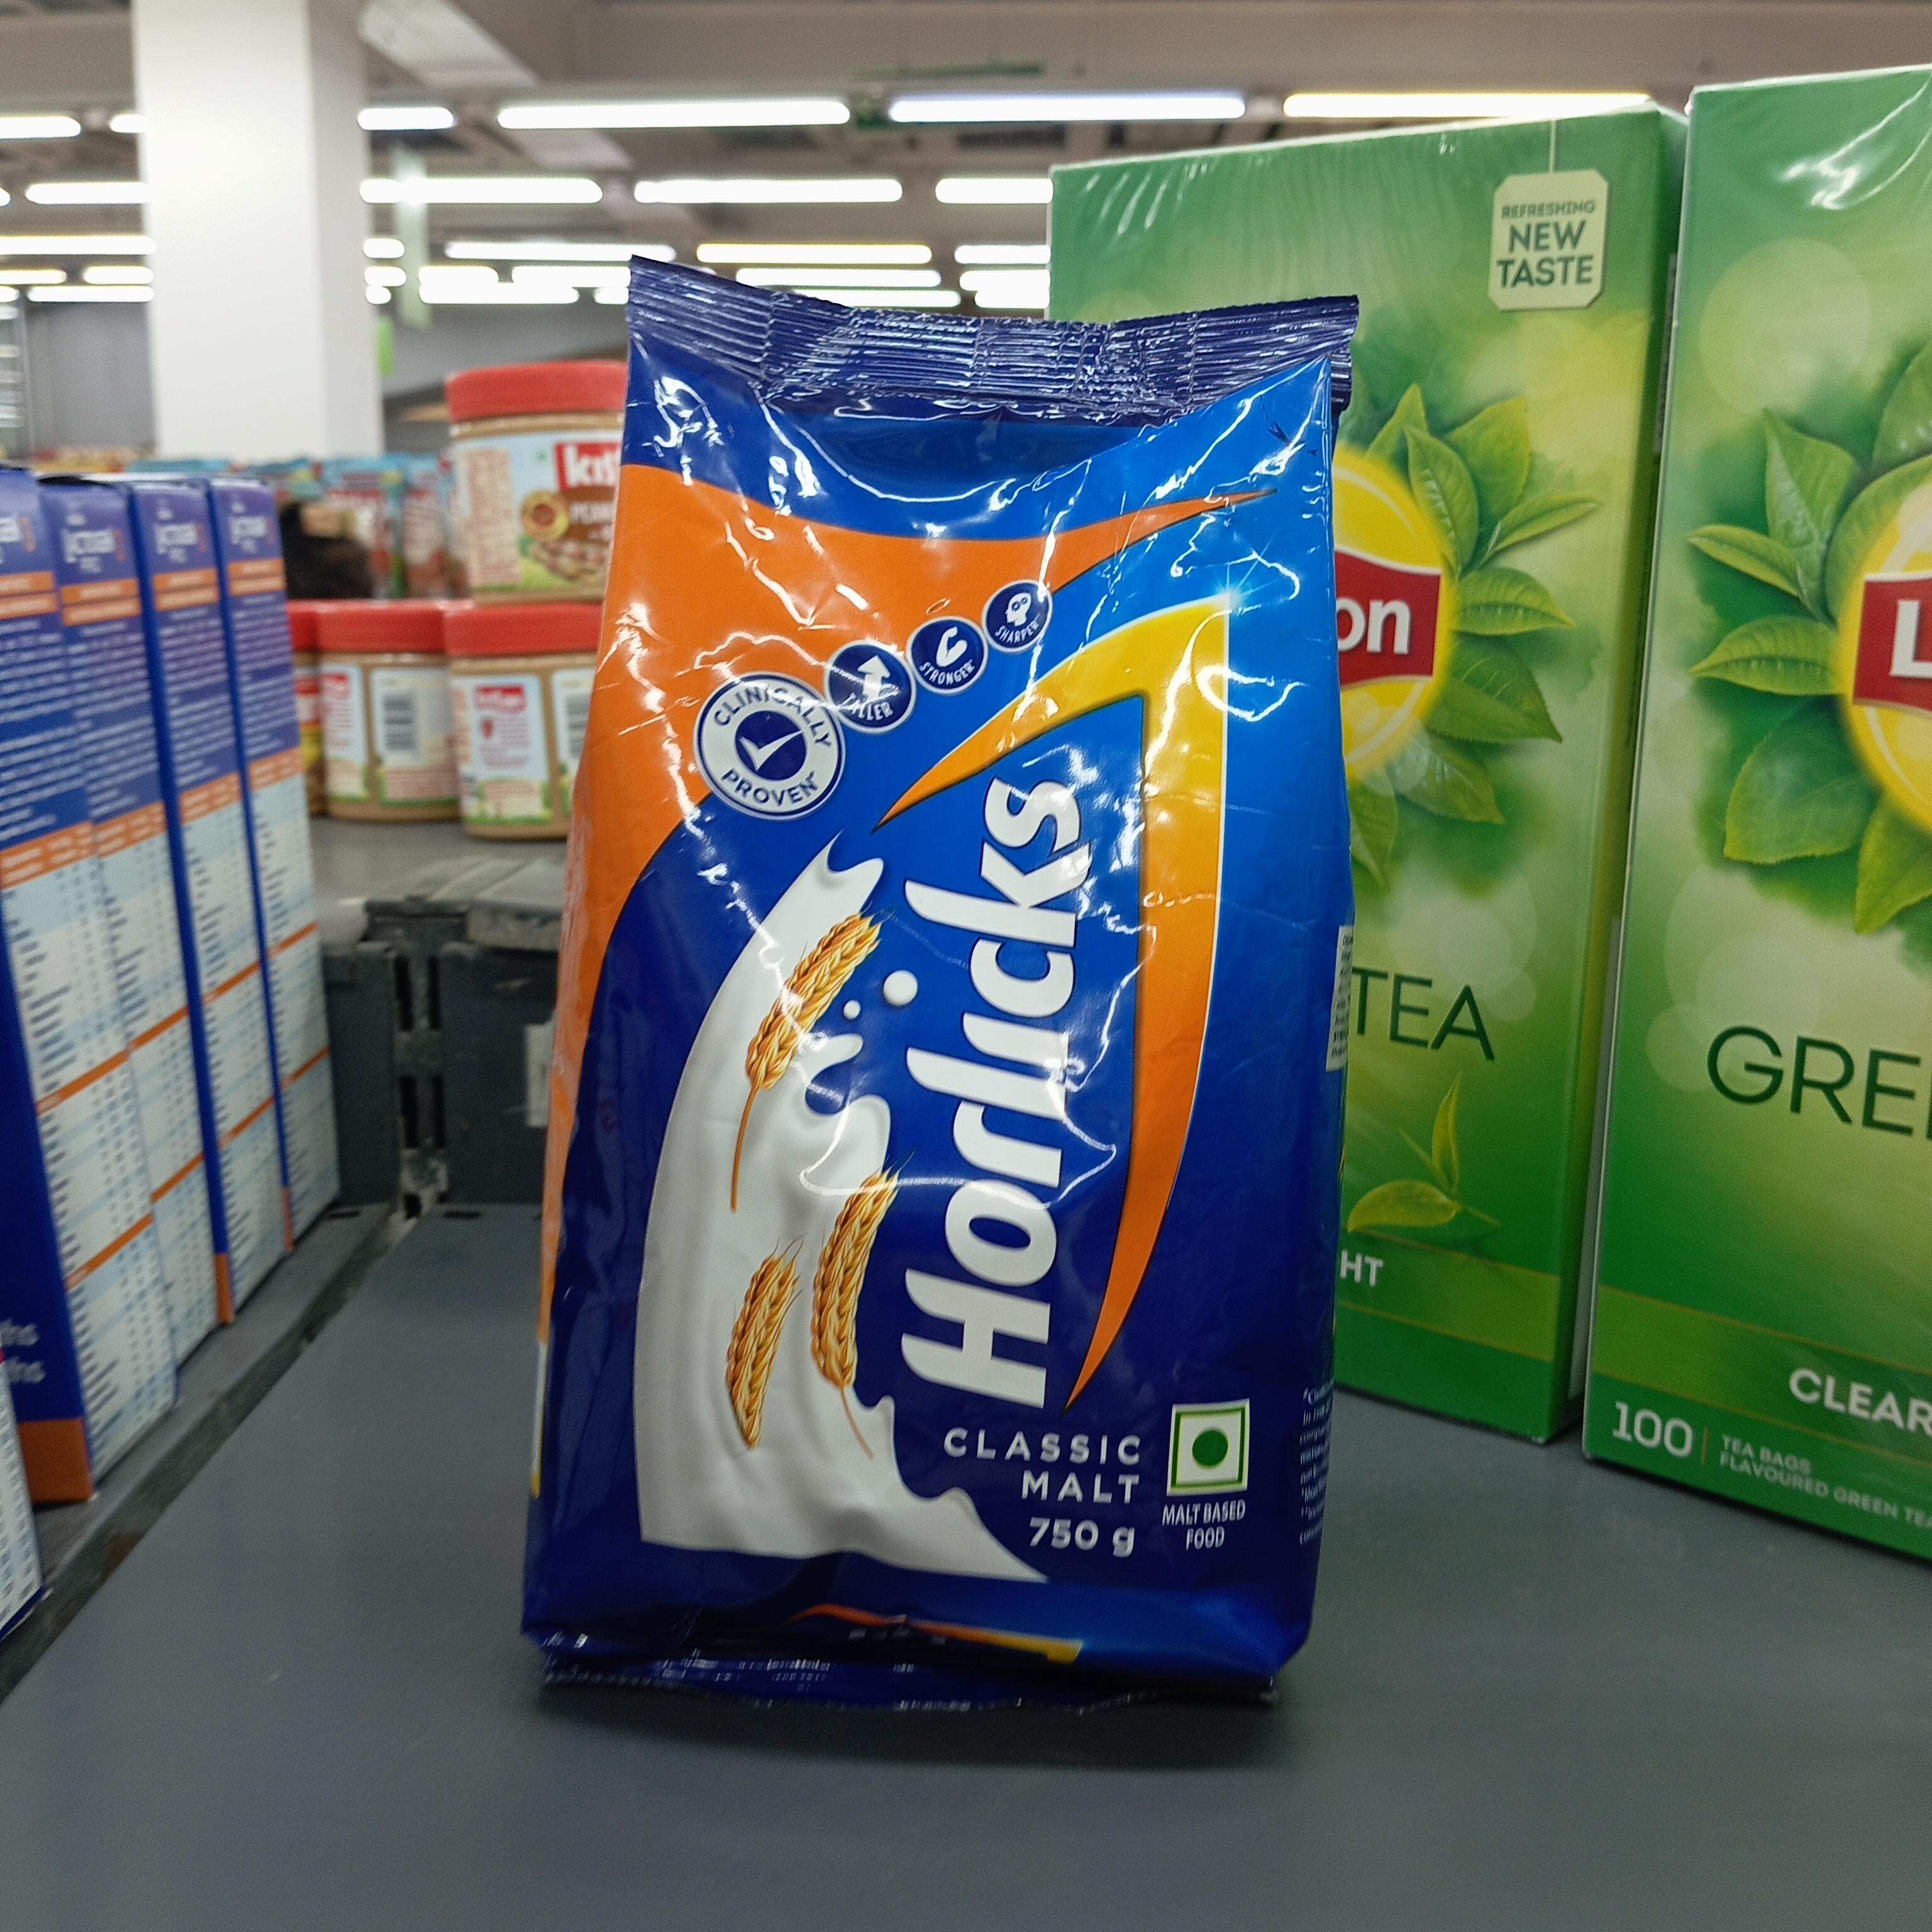HORLICK_CLASSIC_MALT_750_G_POUCH: (593, 264, 1336, 1697)
